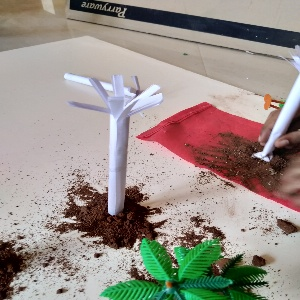plant: (87, 227, 265, 300)
weed: (62, 59, 143, 216), (246, 36, 300, 166)
